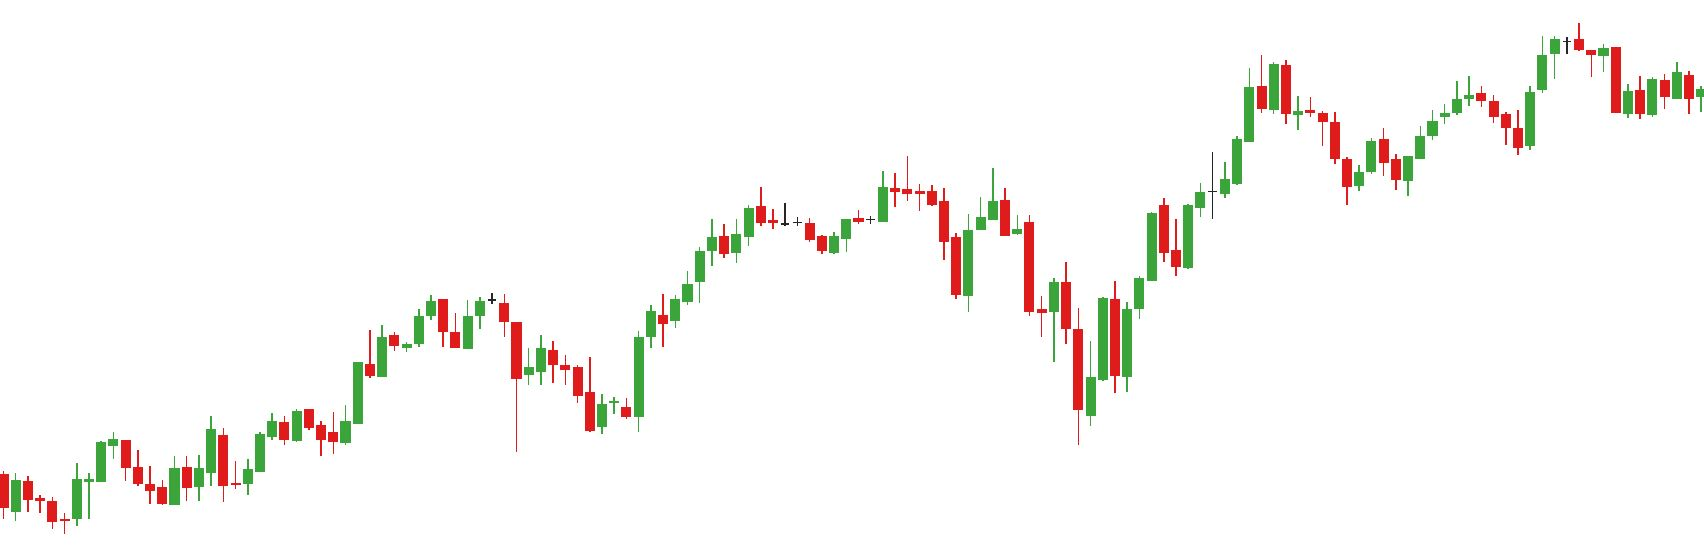sell: (424, 291, 511, 342)
